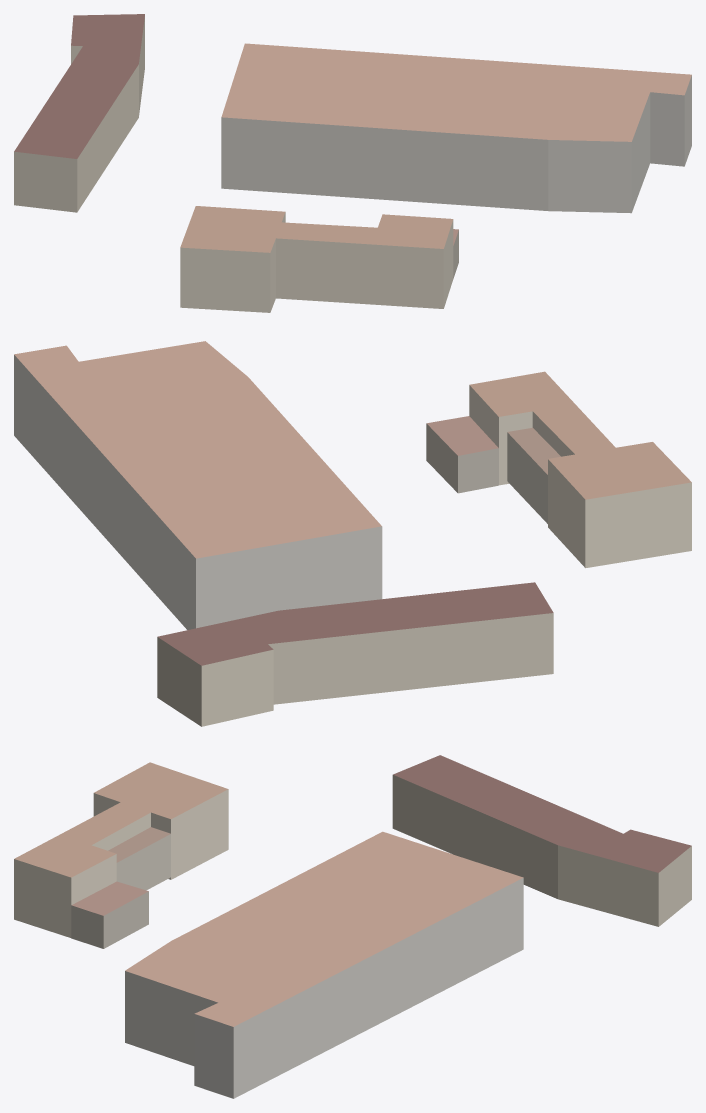
3 renders of one model, top to bottom at view 1: azimuth 30°, elevation 25°; view 2: azimuth 150°, elevation 25°; view 3: azimuth 270°, elevation 25°, orthographic. The views are drawn at different scales.
Parts seen in each view (by area): view 1: tuile; view 2: tuile; view 3: tuile.
Part boxes in pixels (x1,y1,x2,y2): tuile: [14, 14, 691, 312]; tuile: [14, 341, 691, 726]; tuile: [14, 755, 691, 1098].
Bounding box in the file's own units: 66.6 × 7.88 × 67.3.
